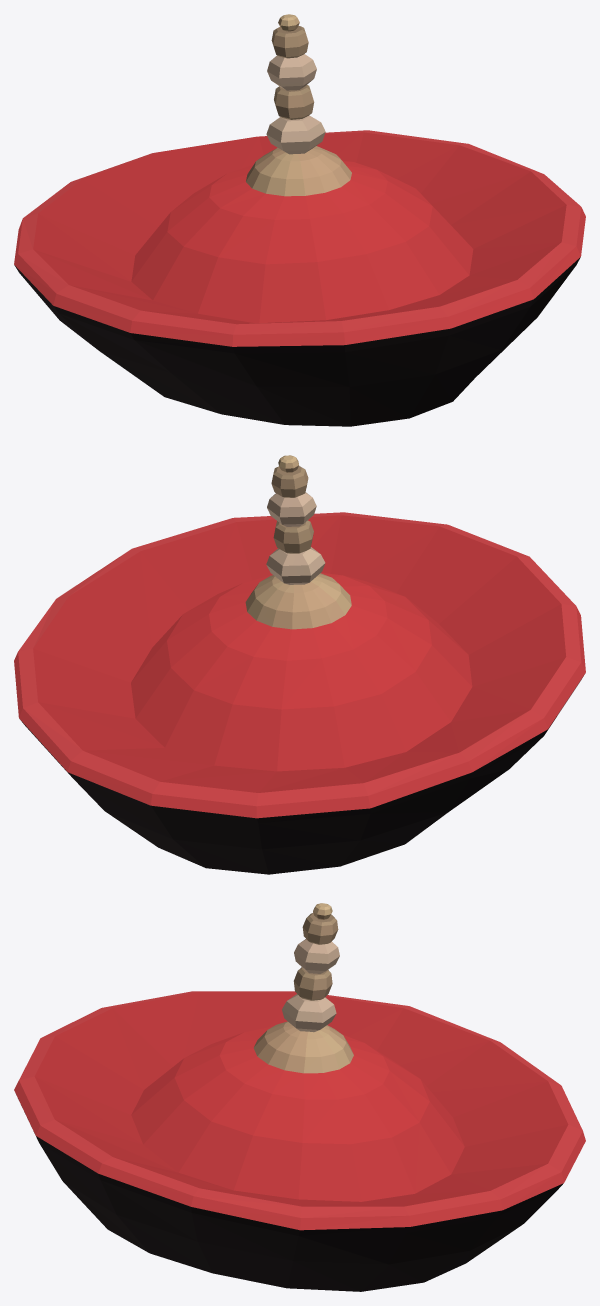
Rendered from qingDynastyEmperorHat.glb.
3 renders of one model, top to bottom at view 1: azimuth 30°, elevation 25°; view 2: azimuth 150°, elevation 25°; view 3: azimuth 270°, elevation 25°, orthographic. The views are drawn at different scales.
Parts seen in each view (by area): view 1: qingDynastyEmperorHat; view 2: qingDynastyEmperorHat; view 3: qingDynastyEmperorHat.
Part boxes in pixels (box(x1,y1,x2,y2)): qingDynastyEmperorHat: box(14, 14, 585, 426); qingDynastyEmperorHat: box(14, 455, 585, 874); qingDynastyEmperorHat: box(14, 903, 585, 1291).
Bounding box in the file's own units: 0.4579 × 0.3098 × 0.4806.
